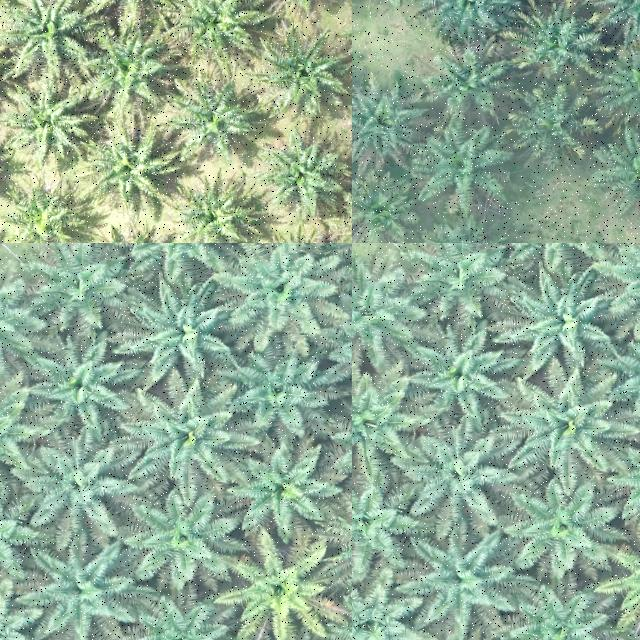Ganoderma: (242, 558, 314, 623), (622, 546, 640, 612)
